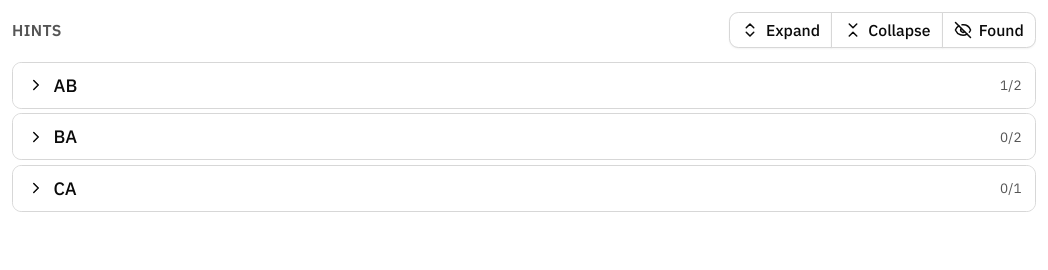
HintsList › found words tracking › filters out hints for found words of matching length
Step 1. Click the button "AB 1/2" → (36, 85), box [13, 62, 1035, 108]
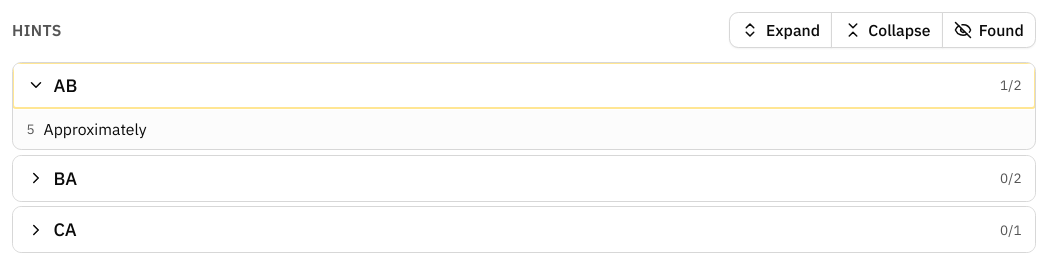
Expected: the text "Approximately" is shown, [44, 118, 146, 140]
